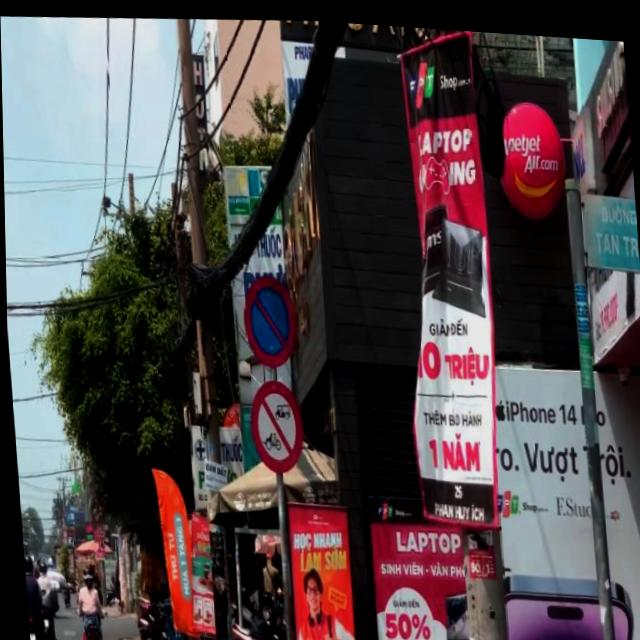Cam do xe: (239, 269, 298, 367)
